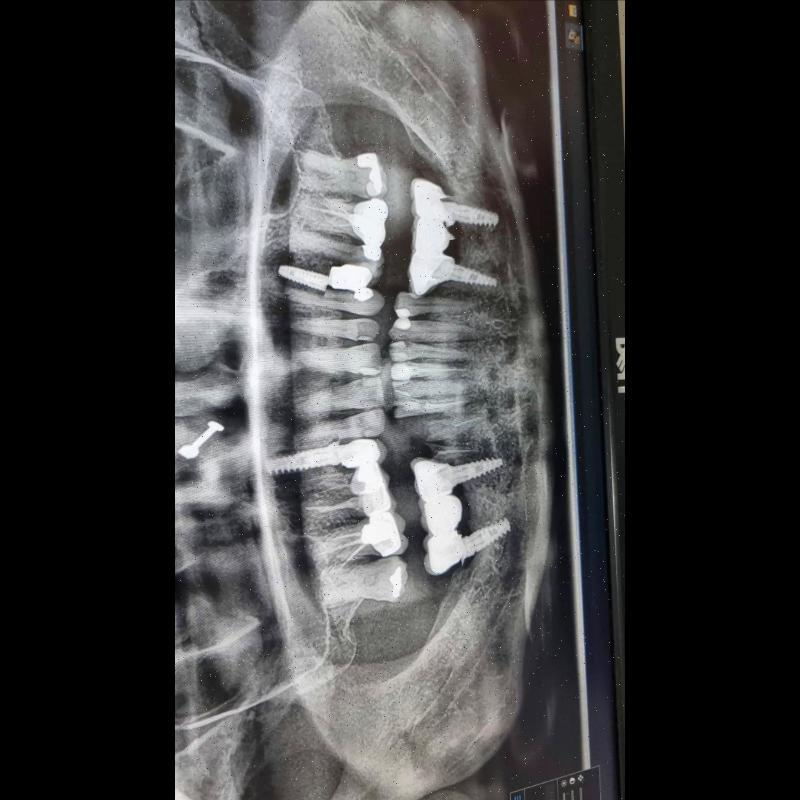ADIN: (262, 431, 342, 485), (457, 515, 521, 567), (443, 189, 504, 237), (271, 252, 331, 300), (438, 257, 504, 295), (446, 450, 502, 492)
